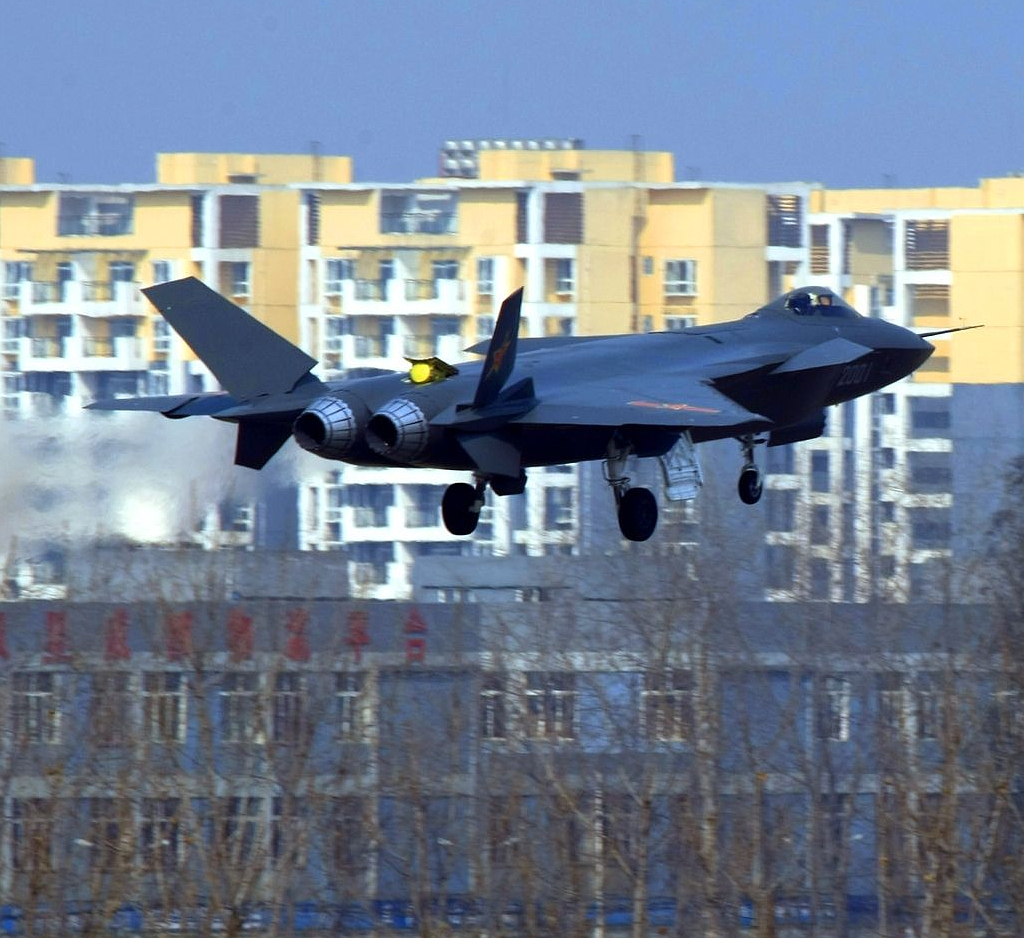J20: (81, 274, 985, 543)
